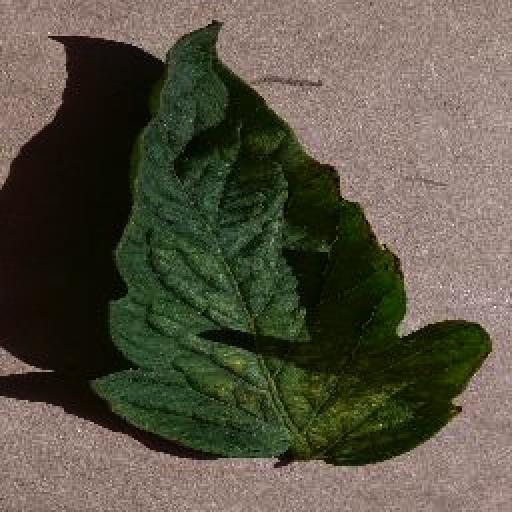disease_tomato: (88, 18, 492, 468)
